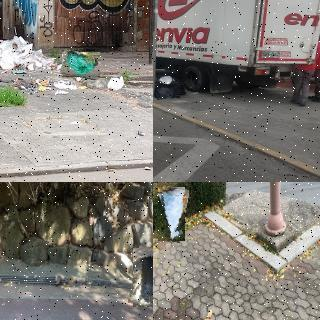Garbage: (156, 187, 187, 243), (130, 246, 153, 308), (61, 51, 101, 79), (154, 83, 181, 99), (171, 78, 188, 96), (157, 75, 172, 85)
